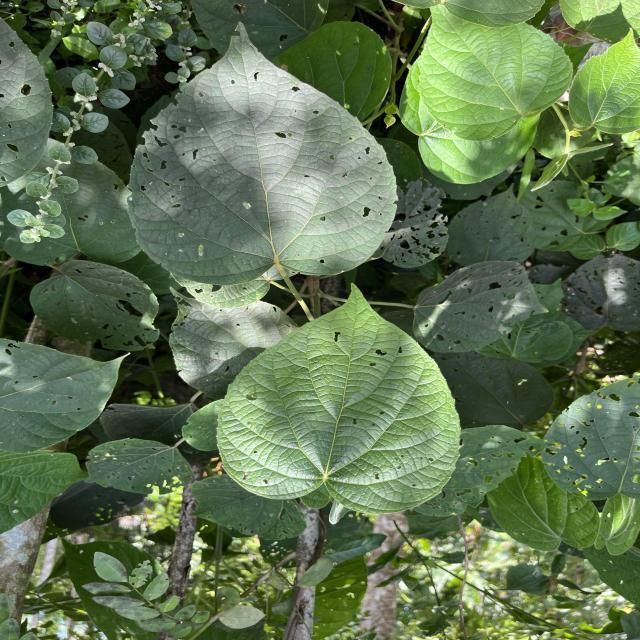Clerodendrum infortunatum: (125, 19, 402, 288), (215, 281, 464, 517), (416, 4, 576, 144)
